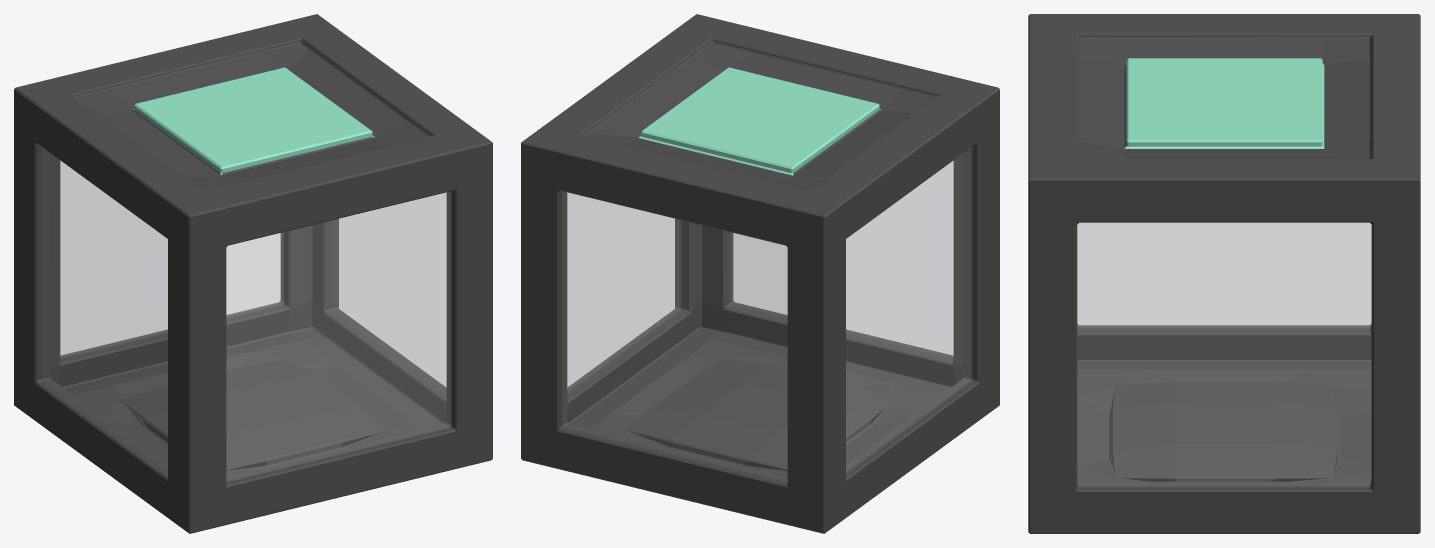
File: AngelsDustContainer.glb
3 views of the same model, side by side, from view 1: azimuth 30°, elevation 25°; view 2: azimuth 150°, elevation 25°; view 3: azimuth 270°, elevation 25° (orthographic). The views are drawn at different scales.
Parts seen in each view (by area): view 1: Container; view 2: Container; view 3: Container.
Part boxes in pixels (bbox=[...]): Container: bbox=[14, 14, 492, 533]; Container: bbox=[521, 14, 999, 533]; Container: bbox=[1028, 14, 1420, 533].
Size of the model in its own units: 1.25 by 1.25 by 1.25.
